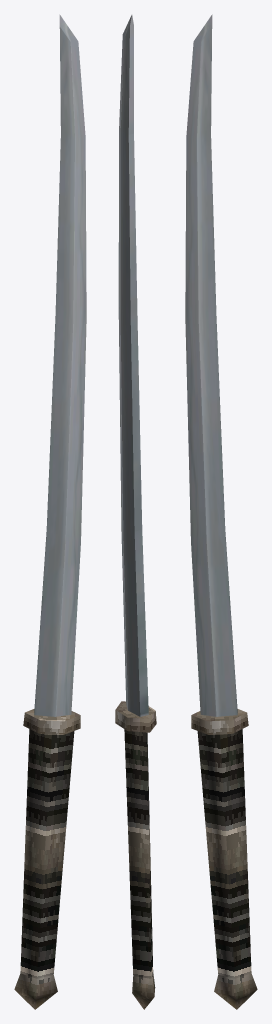
File: wp_mle_2h_sword_s01_l0.fbx
3 renders of one model, left to right at view 1: azimuth 90°, elevation 25°; view 2: azimuth 210°, elevation 25°; view 3: azimuth 270°, elevation 25°, orthographic.
Parts seen in each view (by area): view 1: mesh_node; view 2: mesh_node; view 3: mesh_node.
Part boxes in pixels (x1,y1,x2,y2): mesh_node: [14, 14, 86, 1009]; mesh_node: [115, 15, 156, 1009]; mesh_node: [185, 14, 257, 1009].
Size of the model in its own units: 0.0332 by 1.08 by 0.0708.
